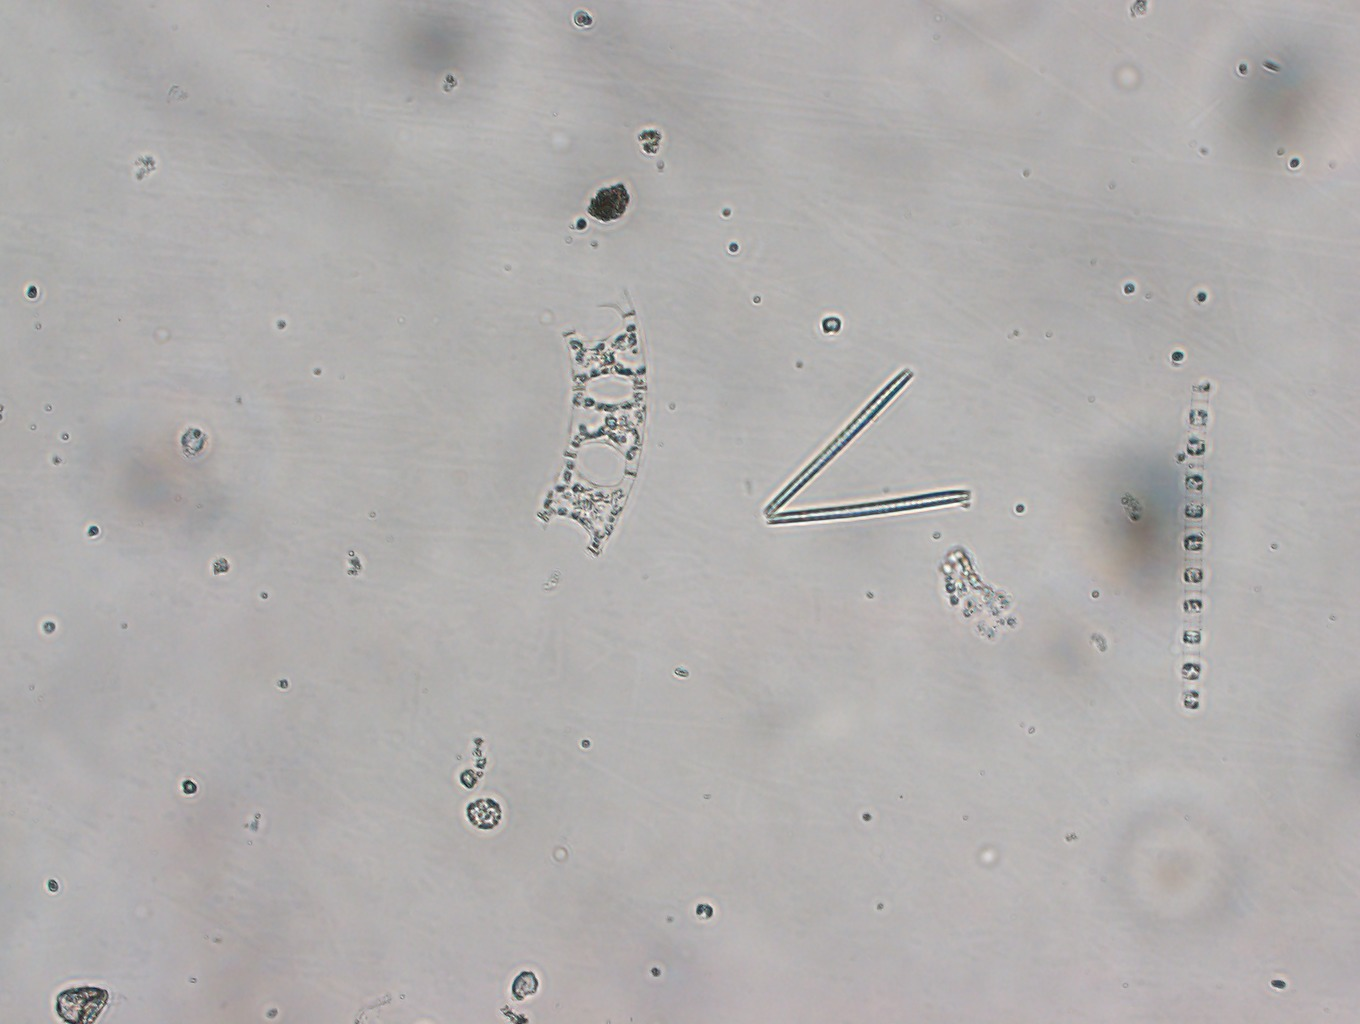eucampia: (522, 284, 660, 558)
skeletonema: (1163, 375, 1228, 719)
thalassionema nitzschioides: (748, 360, 978, 530)
